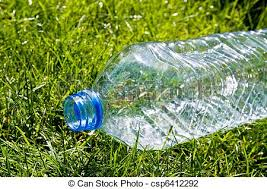plastic_bottle: (68, 29, 267, 151)
